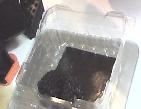berry: (37, 70, 61, 95), (60, 75, 82, 101)
